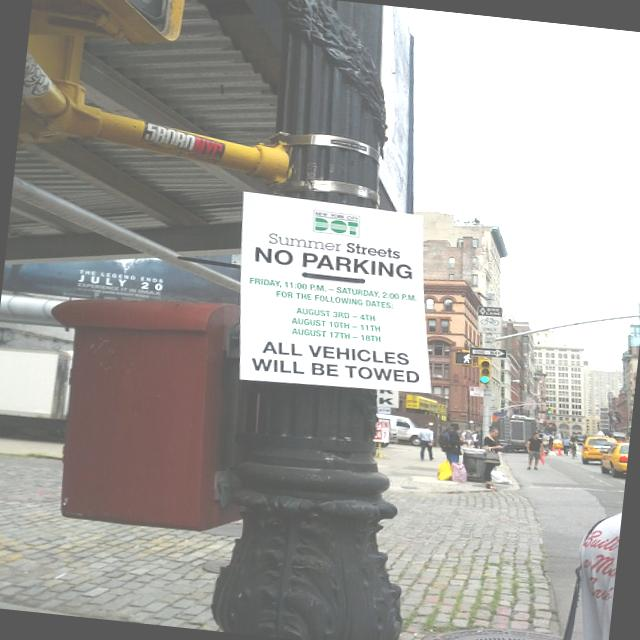Vehicle: (374, 414, 424, 446), (580, 435, 618, 467), (598, 439, 628, 478), (552, 438, 564, 449), (575, 433, 585, 445)
